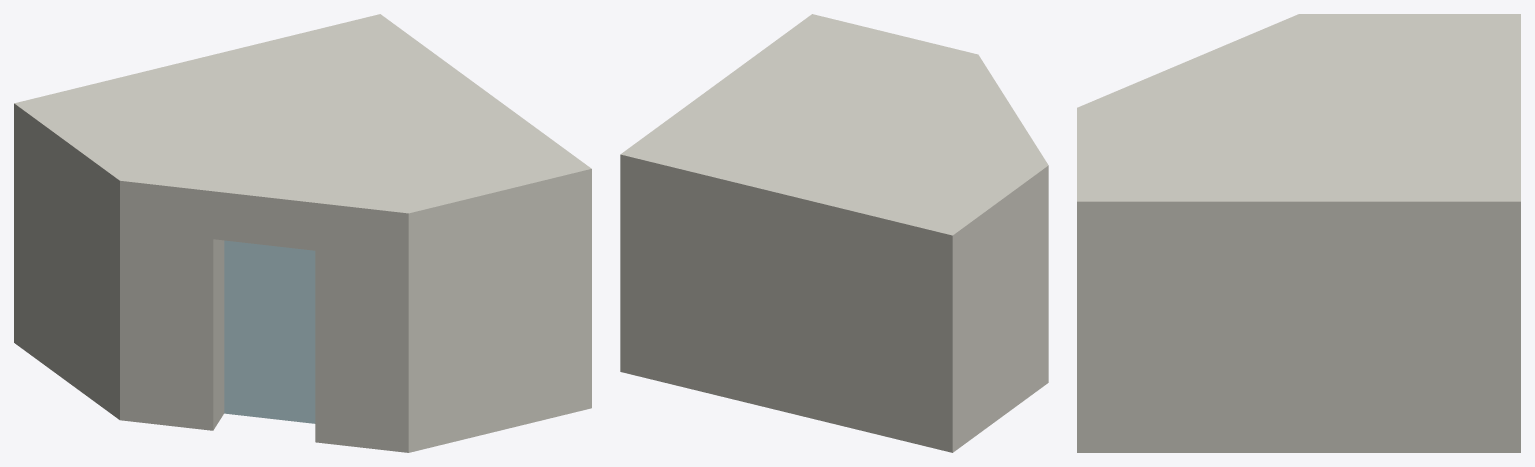
The model's file is building_051.glb.
3 renders of one model, left to right at view 1: azimuth 30°, elevation 25°; view 2: azimuth 150°, elevation 25°; view 3: azimuth 270°, elevation 25°, orthographic. The views are drawn at different scales.
Visible parts, largest first — view 1: building_051; view 2: building_051; view 3: building_051.
Part boxes in pixels (x1=…): building_051: x1=14, y1=14, x2=591, y2=452; building_051: x1=620, y1=14, x2=1048, y2=452; building_051: x1=1077, y1=14, x2=1520, y2=452.
Bounding box in the file's own units: 1 × 0.625 × 1.
